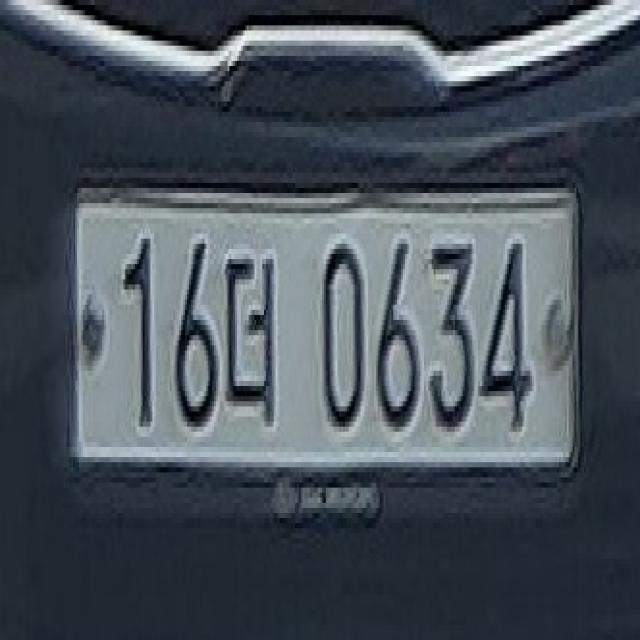0: (320, 223, 368, 437)
1: (114, 223, 166, 447)
3: (426, 223, 478, 442)
4: (476, 224, 536, 452)
6: (168, 229, 224, 447), (372, 228, 426, 442)
deo: (223, 244, 280, 442)
license_plate: (60, 167, 586, 544)
